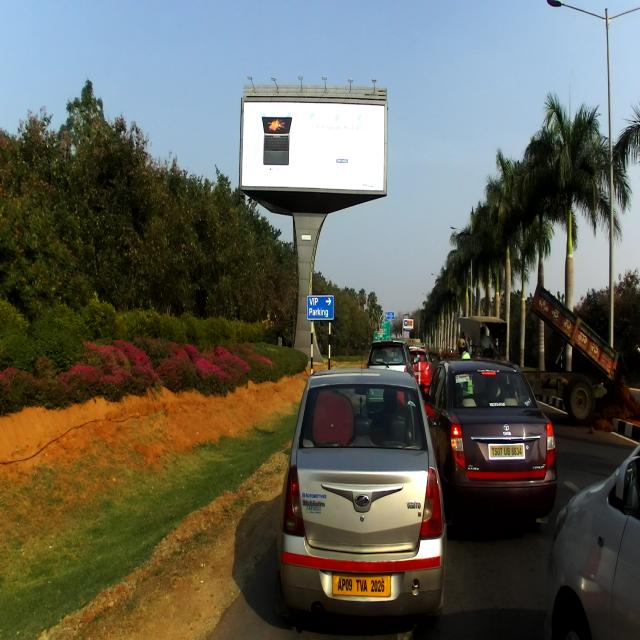car ahead at: (274, 352, 448, 640), (426, 340, 562, 530)
